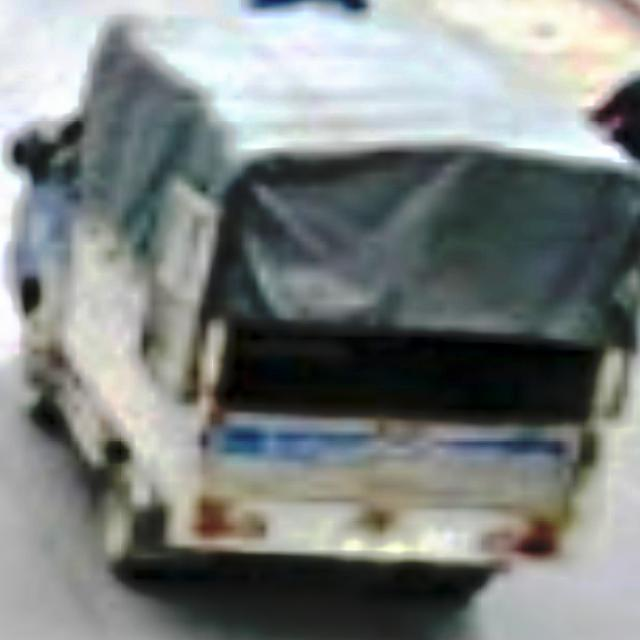Car: (6, 12, 640, 599)
